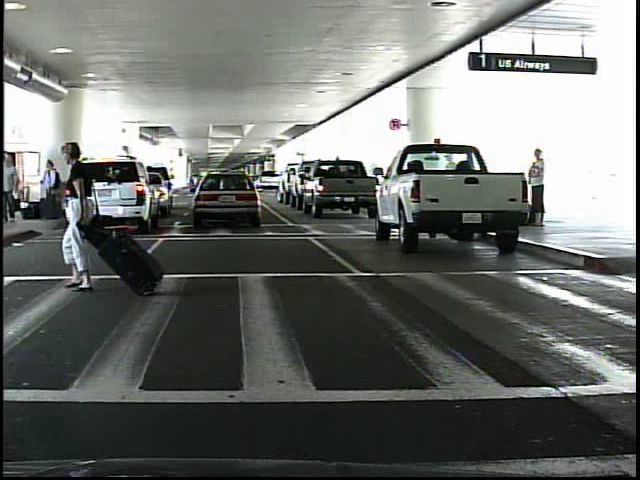person: (48, 143, 119, 292), (513, 150, 552, 227), (39, 158, 60, 222), (2, 153, 19, 221)
